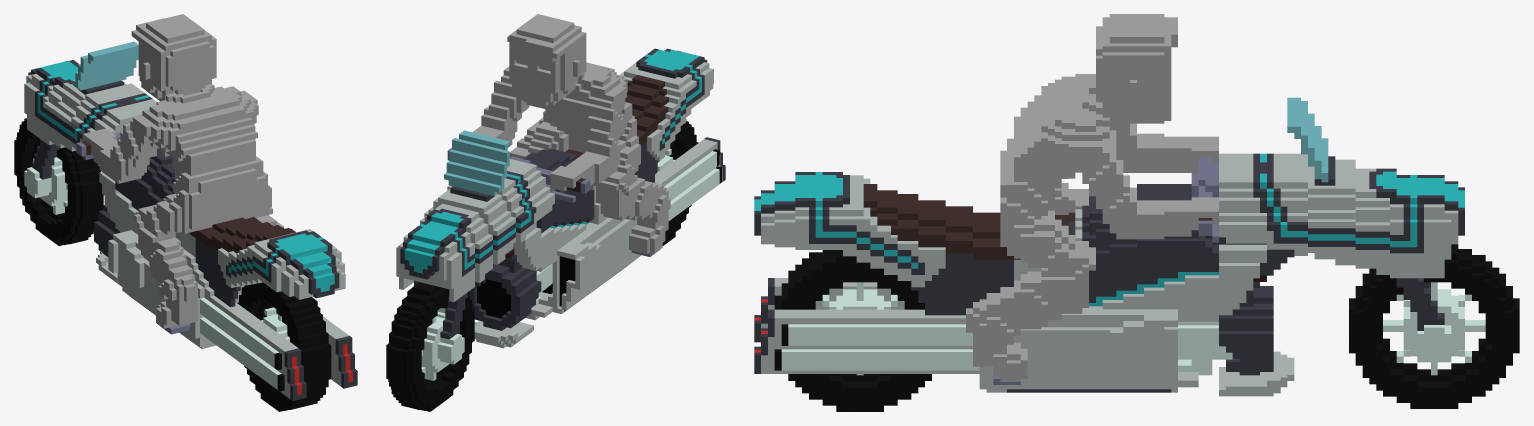
The model's file is SM_Don_Bike.fbx.
3 renders of one model, left to right at view 1: azimuth 30°, elevation 25°; view 2: azimuth 150°, elevation 25°; view 3: azimuth 270°, elevation 25°, orthographic. The views are drawn at different scales.
Visible parts, largest first — view 1: BikeDon:BikeDon; view 2: BikeDon:BikeDon; view 3: BikeDon:BikeDon.
Boxes of the visible parts, left/top/right/bottom form: BikeDon:BikeDon: left=14, top=14, right=357, bottom=411; BikeDon:BikeDon: left=386, top=14, right=725, bottom=411; BikeDon:BikeDon: left=754, top=14, right=1519, bottom=411.
Size of the model in its own units: 120 by 244 by 448.
Materials: 3 (1 with a texture image).
